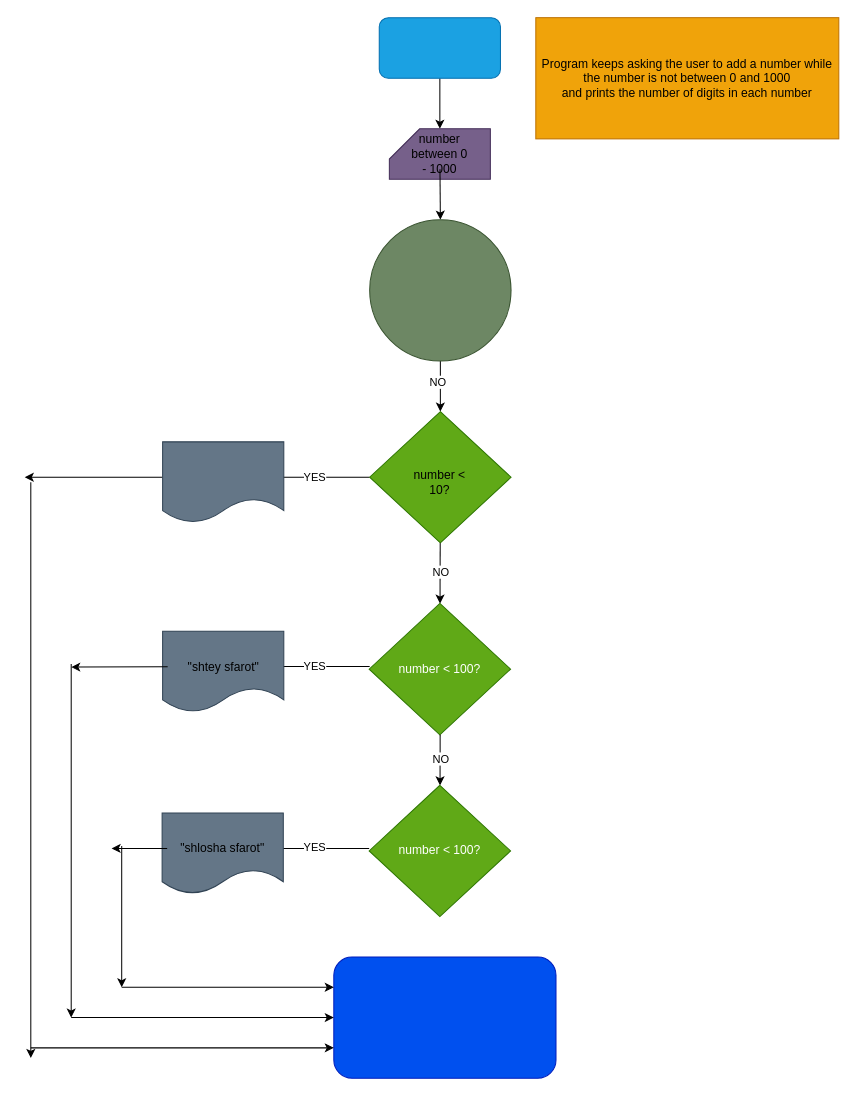
The diagram is 856 pixels wide and 1096 high, and some of its shapes have lost their labels. The centre of each missing label's shape, as x and y in pixels:
"sifra achat": [223,482]
END: [444,1017]
number < 0 or number > 1000 ?: [440,290]
START: [439,47]
